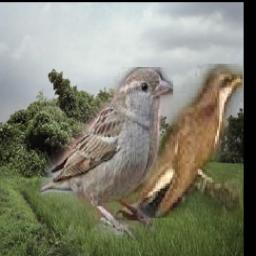Cuckoo: (127, 65, 243, 219)
Sparrow: (40, 68, 174, 240)
